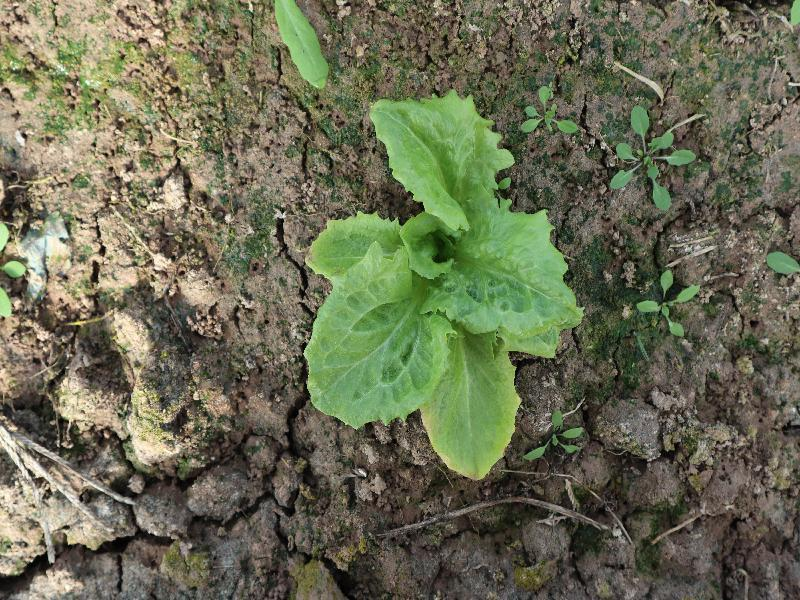lettuce: (303, 89, 584, 481)
